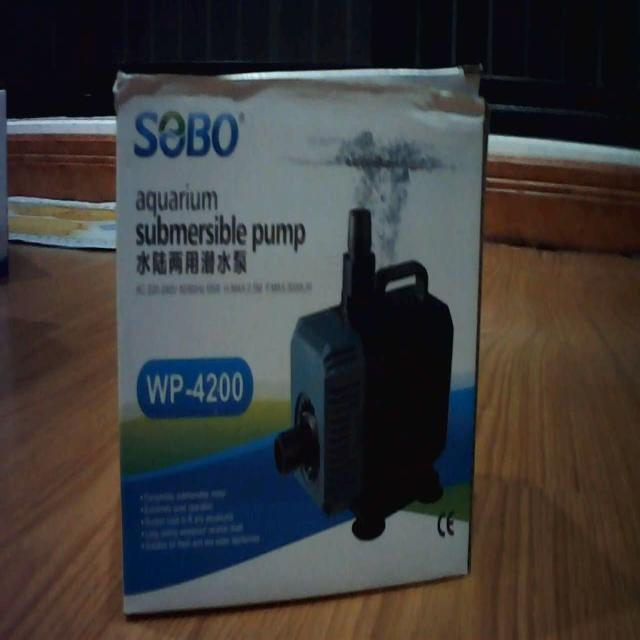SOBO_WP_4200: (109, 54, 491, 618)
